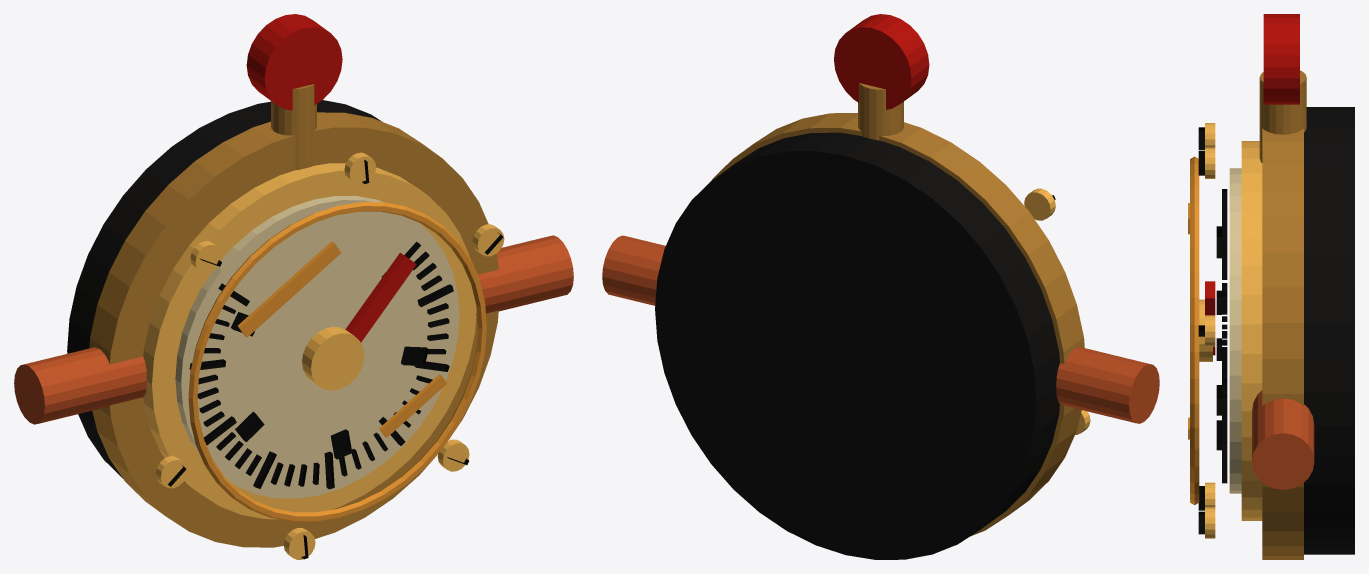
The model's file is WPB_003_GaugeDialFace_Staged.obj.
3 views of the same model, side by side, from view 1: azimuth 30°, elevation 25°; view 2: azimuth 150°, elevation 25°; view 3: azimuth 270°, elevation 25° (orthographic).
Visible parts, largest first — view 1: gauge_cream_face, gauge_outer_brass_bezel, gauge_polished_inner_lip, gauge_blackened_rear_cup, gauge_amber_glass_rim, gauge_left_pipe_socket, gauge_top_valve_cap, gauge_right_pipe_socket, gauge_brass_needle_hub, gauge_top_valve_stem, gauge_glass_highlight_upper, gauge_red_pressure_needle (+7 smaller); view 2: gauge_blackened_rear_cup, gauge_outer_brass_bezel, gauge_top_valve_cap, gauge_left_pipe_socket, gauge_right_pipe_socket, gauge_top_valve_stem, gauge_bezel_screw_135_head; view 3: gauge_blackened_rear_cup, gauge_outer_brass_bezel, gauge_polished_inner_lip, gauge_right_pipe_socket, gauge_cream_face, gauge_amber_glass_rim, gauge_top_valve_cap, gauge_top_valve_stem, gauge_brass_needle_hub, gauge_red_pressure_needle, gauge_bezel_screw_25_head, gauge_bezel_screw_315_head (+4 smaller).
Part boxes in pixels (x1,y1,x2,y2): gauge_cream_face: (175, 196, 459, 498); gauge_outer_brass_bezel: (89, 112, 498, 547); gauge_polished_inner_lip: (143, 163, 476, 519); gauge_blackened_rear_cup: (67, 100, 381, 478); gauge_amber_glass_rim: (188, 202, 486, 521); gauge_left_pipe_socket: (14, 347, 146, 424); gauge_top_valve_cap: (246, 14, 342, 110); gauge_right_pipe_socket: (476, 235, 573, 315); gauge_brass_needle_hub: (302, 326, 364, 390); gauge_top_valve_stem: (271, 84, 316, 169); gauge_glass_highlight_upper: (237, 241, 341, 337); gauge_red_pressure_needle: (345, 252, 416, 342); gauge_blackened_rear_cup: (655, 132, 1059, 559); gauge_outer_brass_bezel: (711, 113, 1084, 536); gauge_top_valve_cap: (834, 14, 929, 109); gauge_left_pipe_socket: (1056, 347, 1159, 423); gauge_right_pipe_socket: (602, 235, 665, 305); gauge_top_valve_stem: (858, 83, 903, 140); gauge_bezel_screw_135_head: (1024, 188, 1055, 220); gauge_blackened_rear_cup: (1304, 107, 1354, 554); gauge_outer_brass_bezel: (1262, 128, 1303, 559); gauge_polished_inner_lip: (1241, 141, 1262, 520); gauge_right_pipe_socket: (1252, 390, 1314, 489); gauge_cream_face: (1229, 168, 1241, 493); gauge_amber_glass_rim: (1190, 156, 1199, 505); gauge_top_valve_cap: (1263, 14, 1299, 104); gauge_top_valve_stem: (1259, 70, 1306, 162); gauge_brass_needle_hub: (1199, 299, 1212, 361); gauge_red_pressure_needle: (1205, 281, 1215, 355); gauge_bezel_screw_25_head: (1205, 315, 1215, 346); gauge_bezel_screw_315_head: (1205, 507, 1215, 538).
Size of the model in its own units: 0.475 by 0.441 by 0.128.
